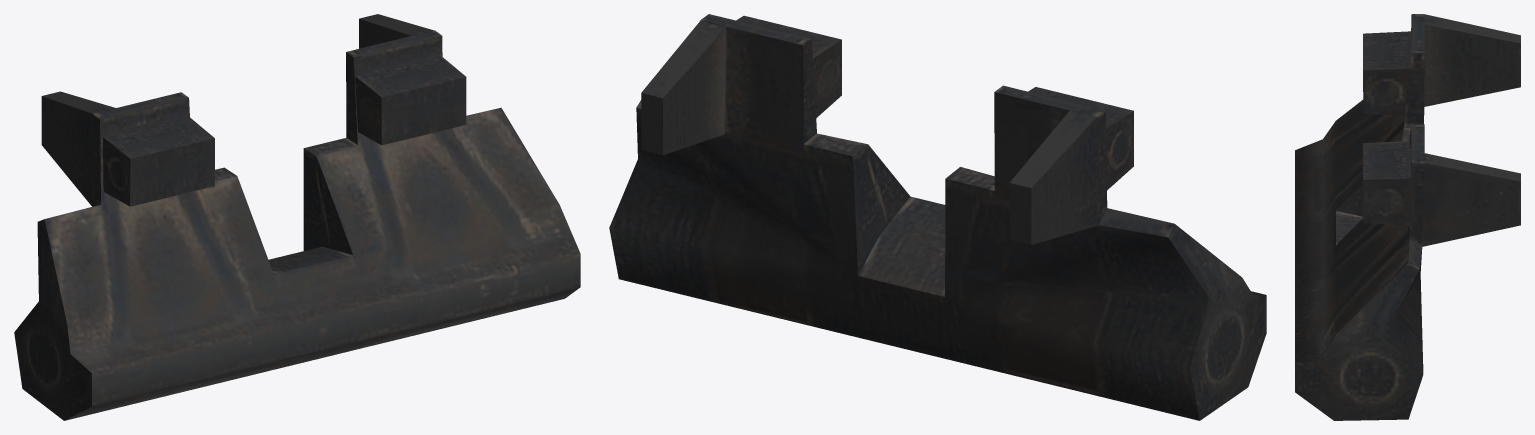
3 renders of one model, left to right at view 1: azimuth 30°, elevation 25°; view 2: azimuth 150°, elevation 25°; view 3: azimuth 270°, elevation 25°, orthographic. The views are drawn at different scales.
Parts seen in each view (by area): view 1: set_0_group_0; view 2: set_0_group_0; view 3: set_0_group_0.
Part boxes in pixels (x1,y1,x2,y2): set_0_group_0: [14, 14, 580, 420]; set_0_group_0: [609, 14, 1266, 420]; set_0_group_0: [1295, 14, 1520, 420].
Bounding box in the file's own units: 0.2608 × 0.1247 × 0.1142.
1 material, 1 textured.
